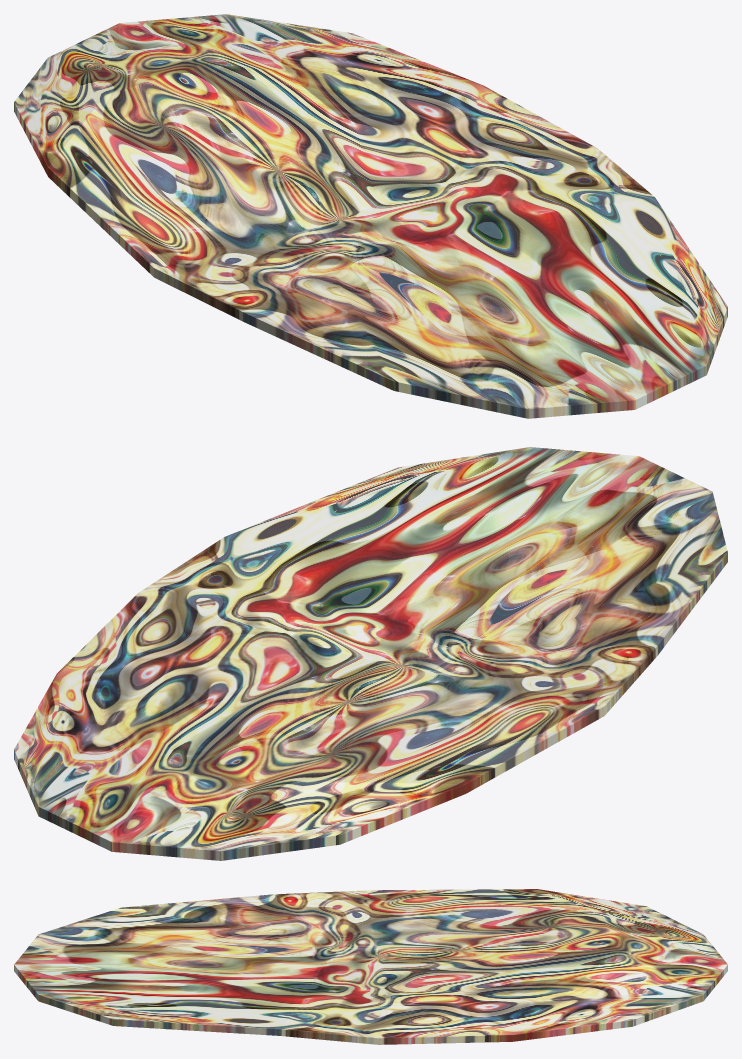
The model's file is polotense.fbx.
3 views of the same model, one above another, from view 1: azimuth 30°, elevation 25°; view 2: azimuth 150°, elevation 25°; view 3: azimuth 270°, elevation 25° (orthographic). The views are drawn at different scales.
Parts seen in each view (by area): view 1: Plane; view 2: Plane; view 3: Plane.
Boxes of the visible parts, x1=… form: Plane: x1=14, y1=14, x2=727, y2=418; Plane: x1=14, y1=447, x2=727, y2=860; Plane: x1=14, y1=889, x2=727, y2=1044.
Bounding box in the file's own units: 92.34 × 6.8 × 183.
